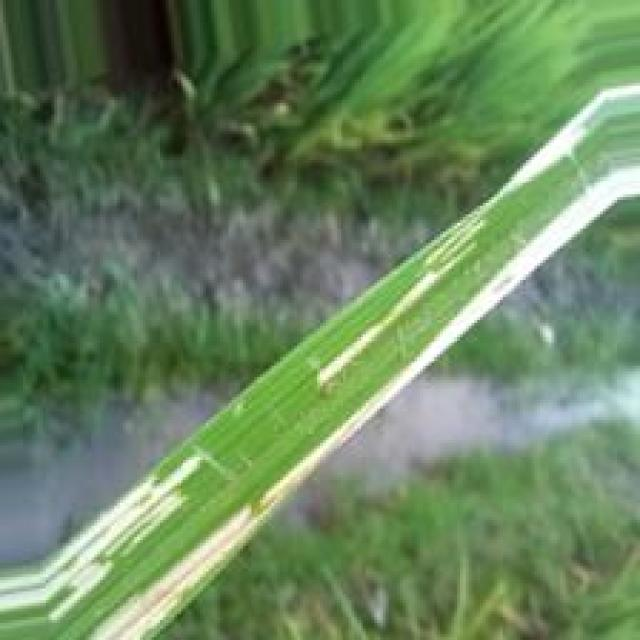Rice_Hispa: (79, 166, 640, 640), (0, 458, 210, 626), (315, 272, 449, 394), (495, 88, 636, 193)
